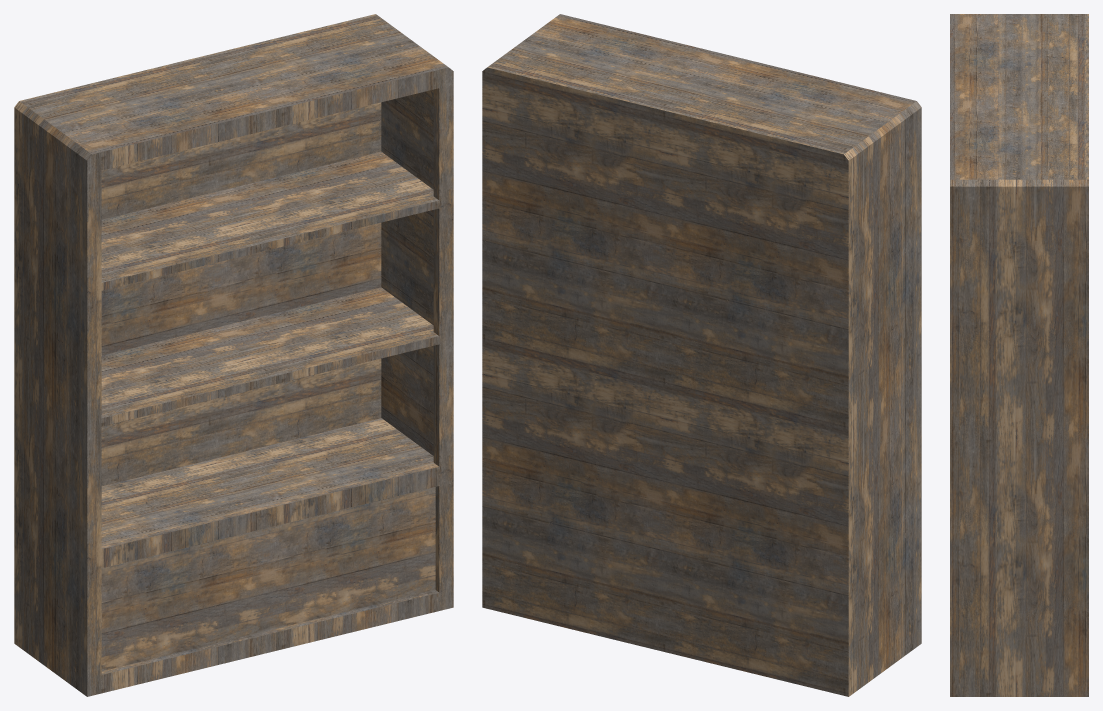
The model's file is ShelfFinished.fbx.
The picture shows the model from 3 angles, left to right: view 1: azimuth 30°, elevation 25°; view 2: azimuth 150°, elevation 25°; view 3: azimuth 270°, elevation 25°; orthographic projection. The views are drawn at different scales.
Visible parts, largest first — view 1: pCube1; view 2: pCube1; view 3: pCube1.
Boxes of the visible parts, box(x1,y1,x2,y2) form: pCube1: box(14, 14, 453, 696); pCube1: box(482, 14, 921, 696); pCube1: box(950, 14, 1088, 696).
Bounding box in the file's own units: 6.34 × 8.94 × 2.19.
1 material, 1 textured.
